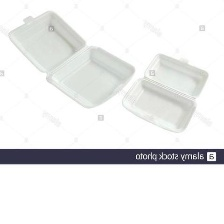foam_box: (3, 6, 139, 112), (118, 49, 212, 135)
